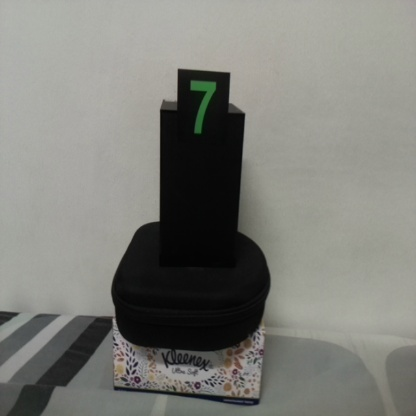id_7: (178, 68, 231, 158)
